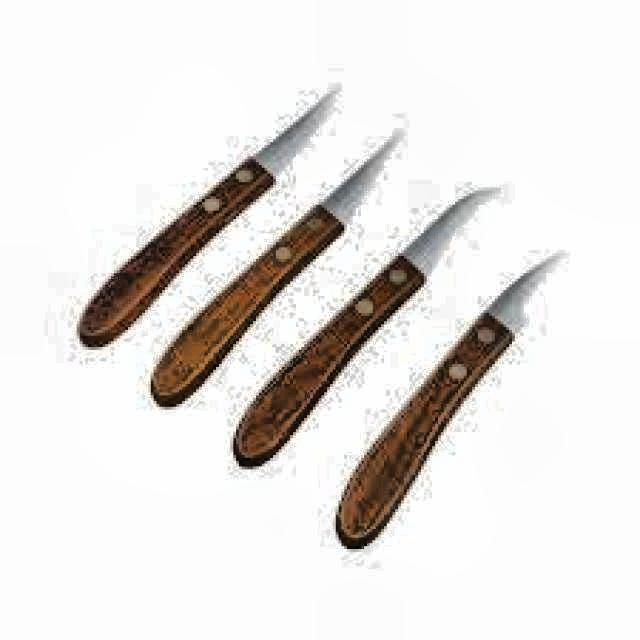knife: (228, 183, 508, 464), (324, 249, 579, 543), (156, 124, 413, 404), (78, 83, 344, 352)
